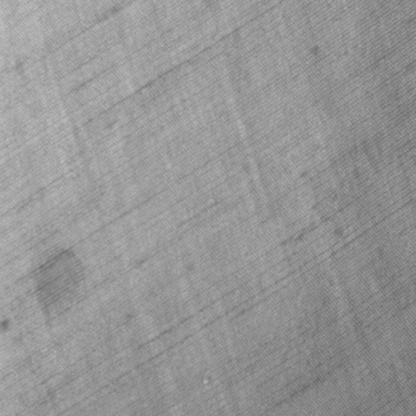oil spot: (30, 243, 91, 329)
